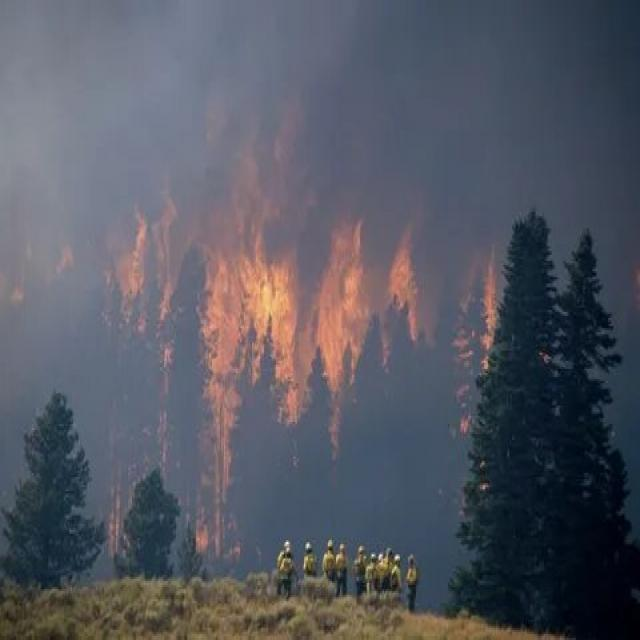Fire: (182, 211, 450, 491)
Smoke: (18, 0, 640, 260)
